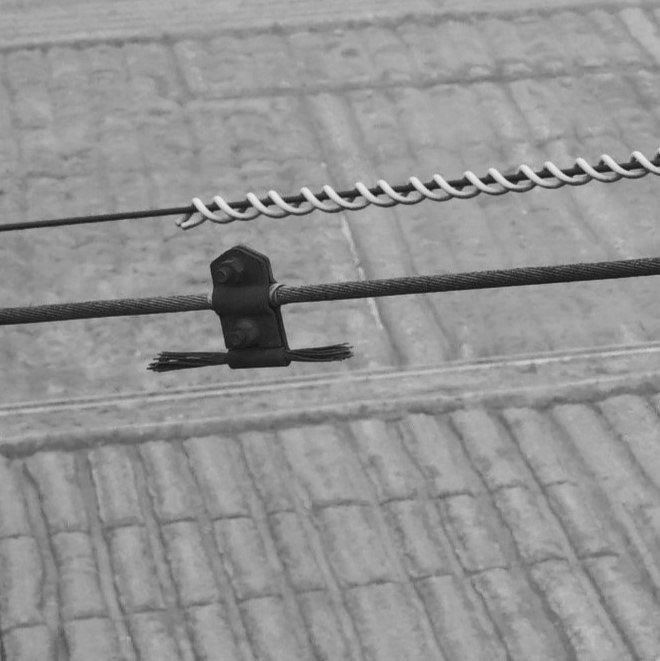Damage of shockproof hammer: (137, 231, 377, 387)
